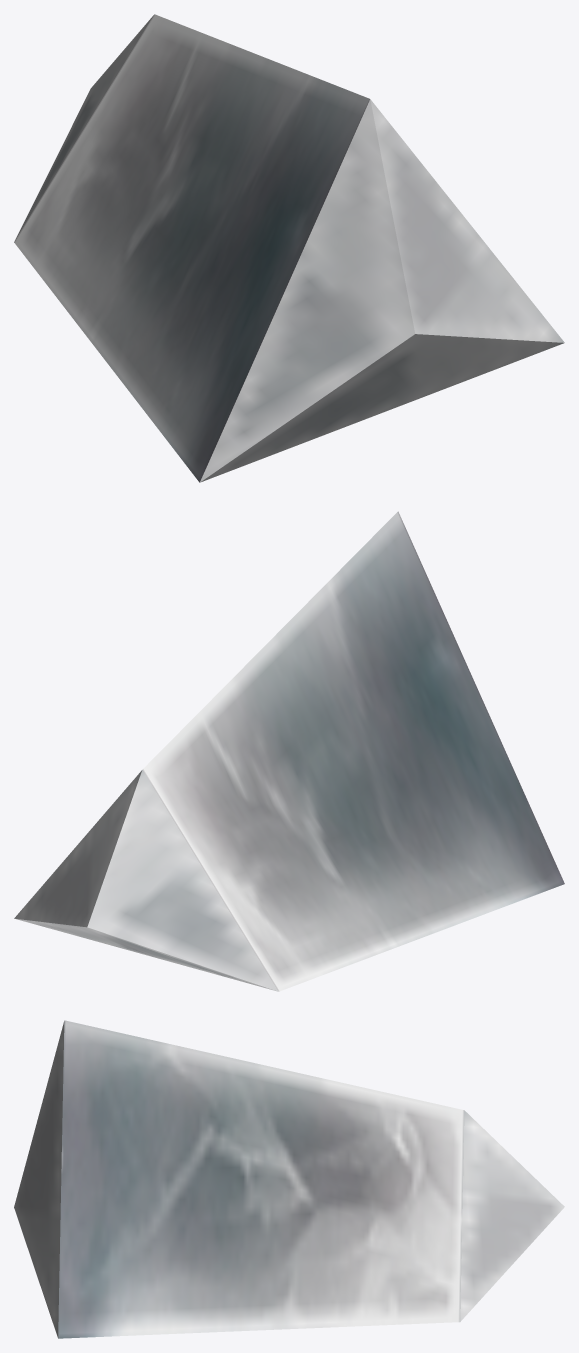
File: Crystal_Sml_C_01.FBX
3 renders of one model, top to bottom at view 1: azimuth 30°, elevation 25°; view 2: azimuth 150°, elevation 25°; view 3: azimuth 270°, elevation 25°, orthographic. The views are drawn at different scales.
Visible parts, largest first — view 1: Crystal_Sml_C_01; view 2: Crystal_Sml_C_01; view 3: Crystal_Sml_C_01.
Part boxes in pixels (box(x1,y1,x2,y2)): Crystal_Sml_C_01: box(14, 14, 564, 482); Crystal_Sml_C_01: box(14, 511, 564, 991); Crystal_Sml_C_01: box(14, 1020, 564, 1338).
Bounding box in the file's own units: 58.15 × 52.48 × 91.73.
Materials: 1 (1 with a texture image).
